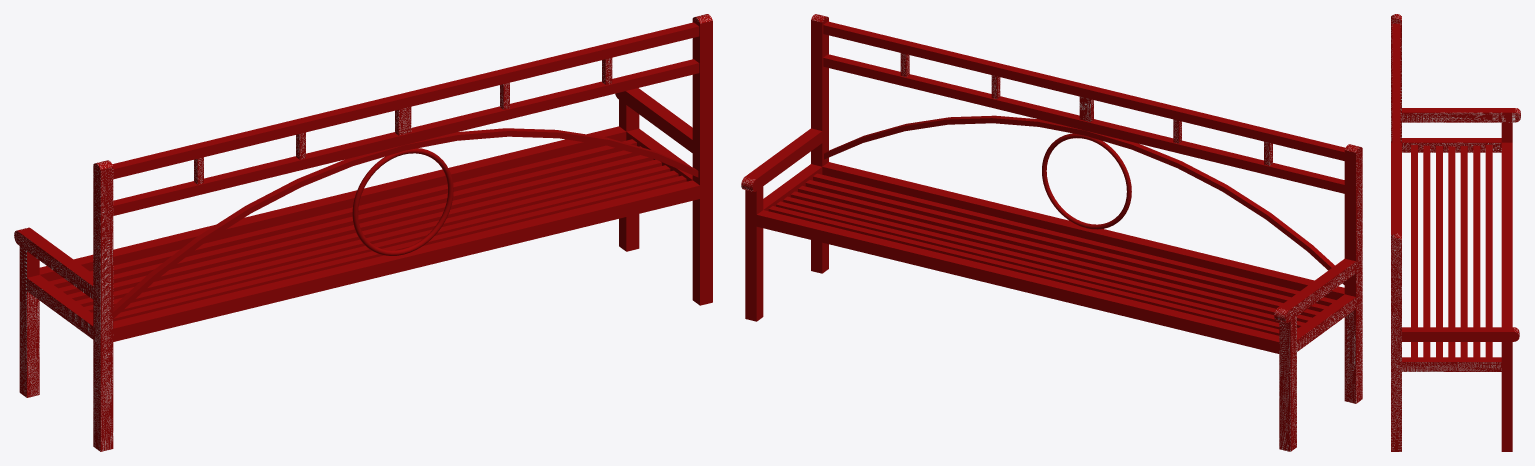
3 renders of one model, left to right at view 1: azimuth 30°, elevation 25°; view 2: azimuth 150°, elevation 25°; view 3: azimuth 270°, elevation 25°, orthographic. The views are drawn at different scales.
Parts seen in each view (by area): view 1: mesh2_mesh2-geometry, mesh4_mesh4-geometry, mesh3_mesh3-geometry, mesh1_mesh1-geometry; view 2: mesh2_mesh2-geometry, mesh4_mesh4-geometry, mesh3_mesh3-geometry, mesh1_mesh1-geometry; view 3: mesh2_mesh2-geometry, mesh4_mesh4-geometry.
Part boxes in pixels (x1,y1,x2,y2): mesh2_mesh2-geometry: (14, 14, 712, 451); mesh4_mesh4-geometry: (112, 22, 699, 179); mesh3_mesh3-geometry: (113, 59, 699, 215); mesh1_mesh1-geometry: (352, 148, 453, 255); mesh2_mesh2-geometry: (741, 14, 1362, 451); mesh4_mesh4-geometry: (823, 21, 1345, 160); mesh3_mesh3-geometry: (823, 54, 1344, 193); mesh1_mesh1-geometry: (1042, 133, 1131, 229); mesh2_mesh2-geometry: (1391, 14, 1520, 451); mesh4_mesh4-geometry: (1392, 23, 1400, 234).
Size of the model in its own units: 0.8915 by 0.397 by 0.2182.
